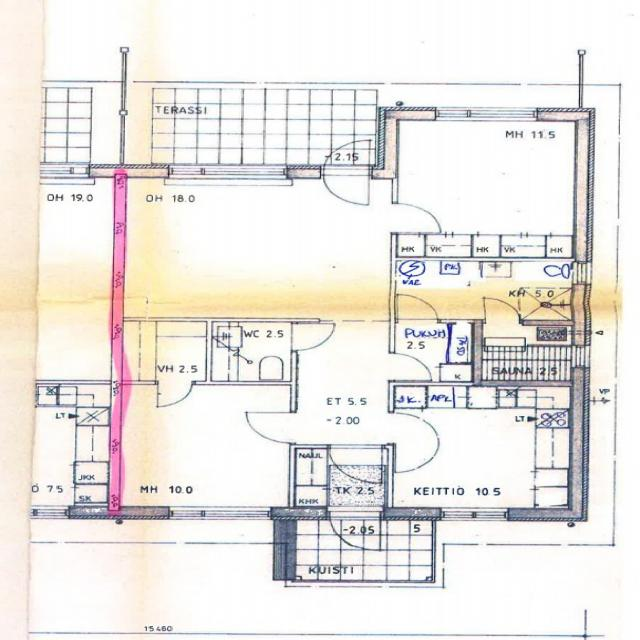door: (331, 507, 379, 552), (330, 444, 382, 483), (324, 164, 369, 208), (324, 134, 369, 178), (389, 413, 445, 443), (245, 412, 298, 442), (389, 204, 441, 232), (388, 354, 438, 380), (291, 324, 338, 351), (401, 296, 437, 324), (485, 296, 519, 324), (158, 381, 192, 408)
